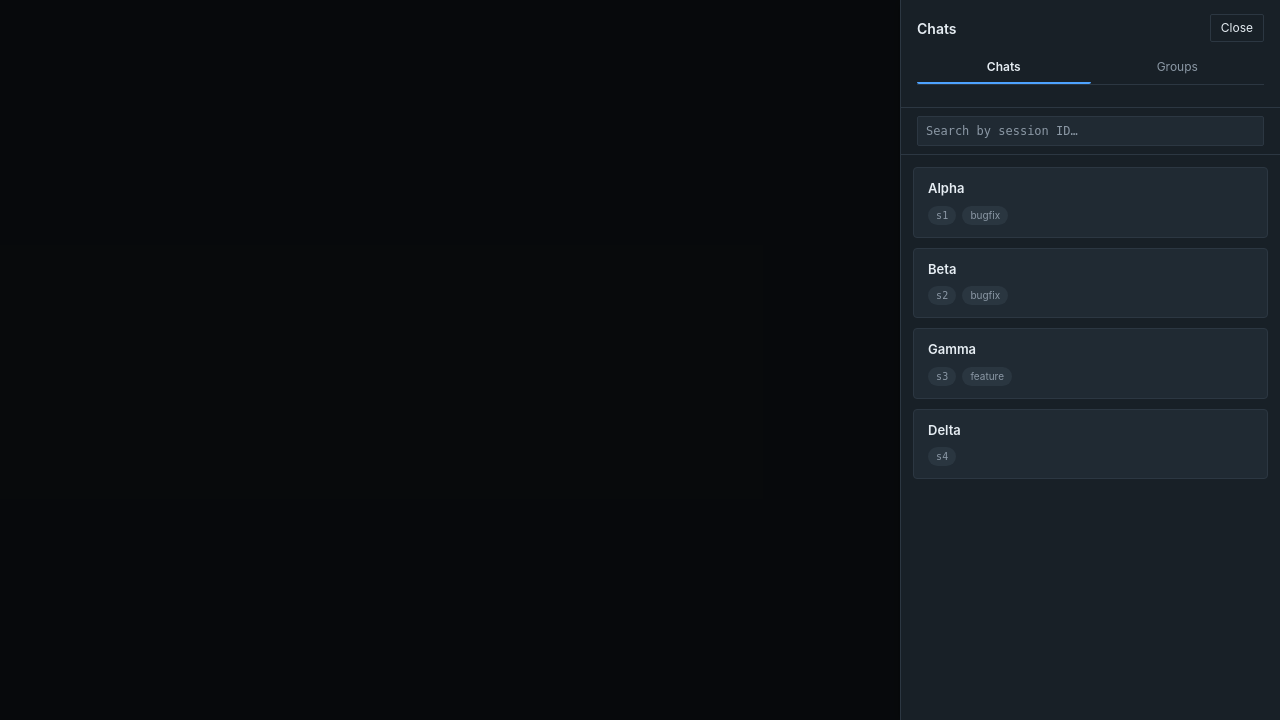
<ChatsDrawer> › Groups tab › switches to Groups tab showing grouped sessions
Click the button "Groups" at (1177, 68), box [1090,52,1264,84]
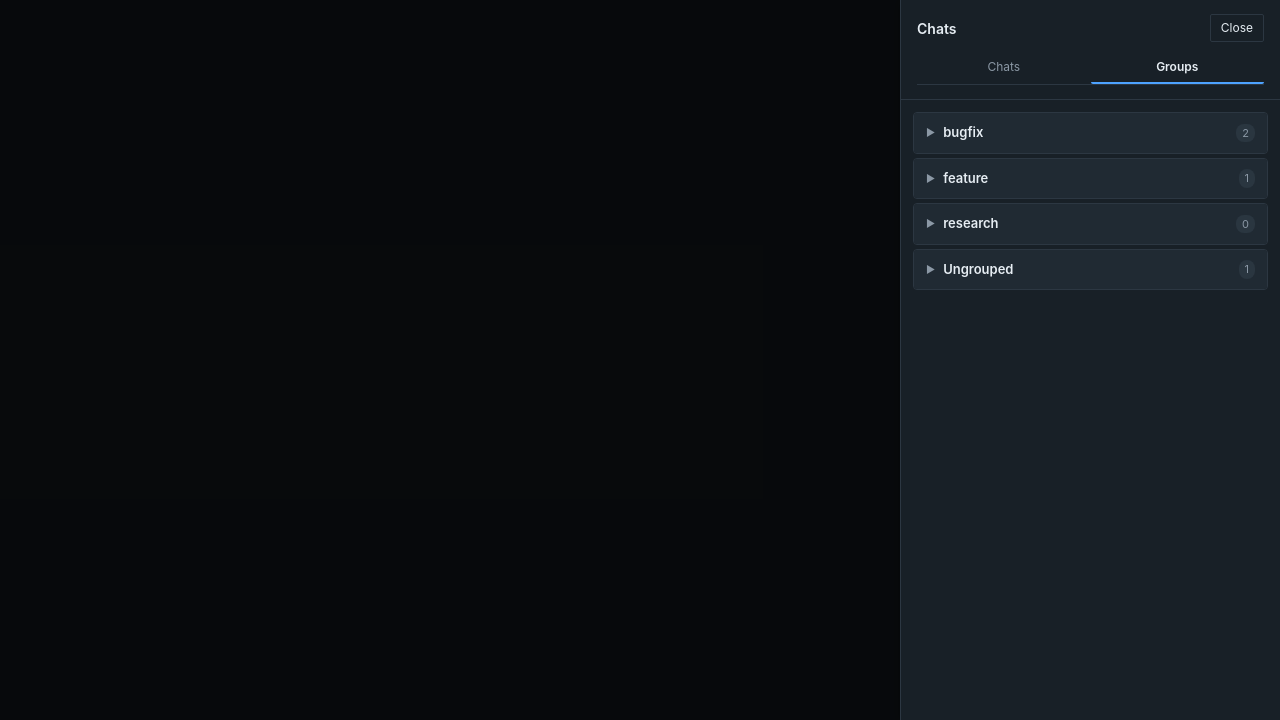
Expected: the text "bugfix" is shown, [943,124,983,140]
Result: the text "research" is shown at [943,215,999,231]
